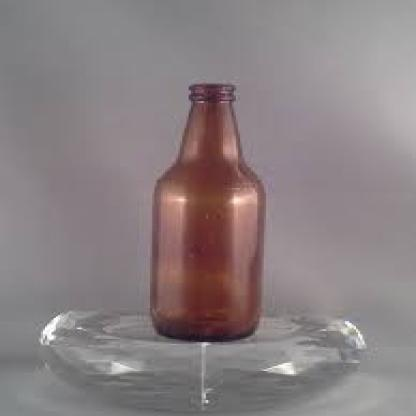trash: (151, 83, 264, 339)
